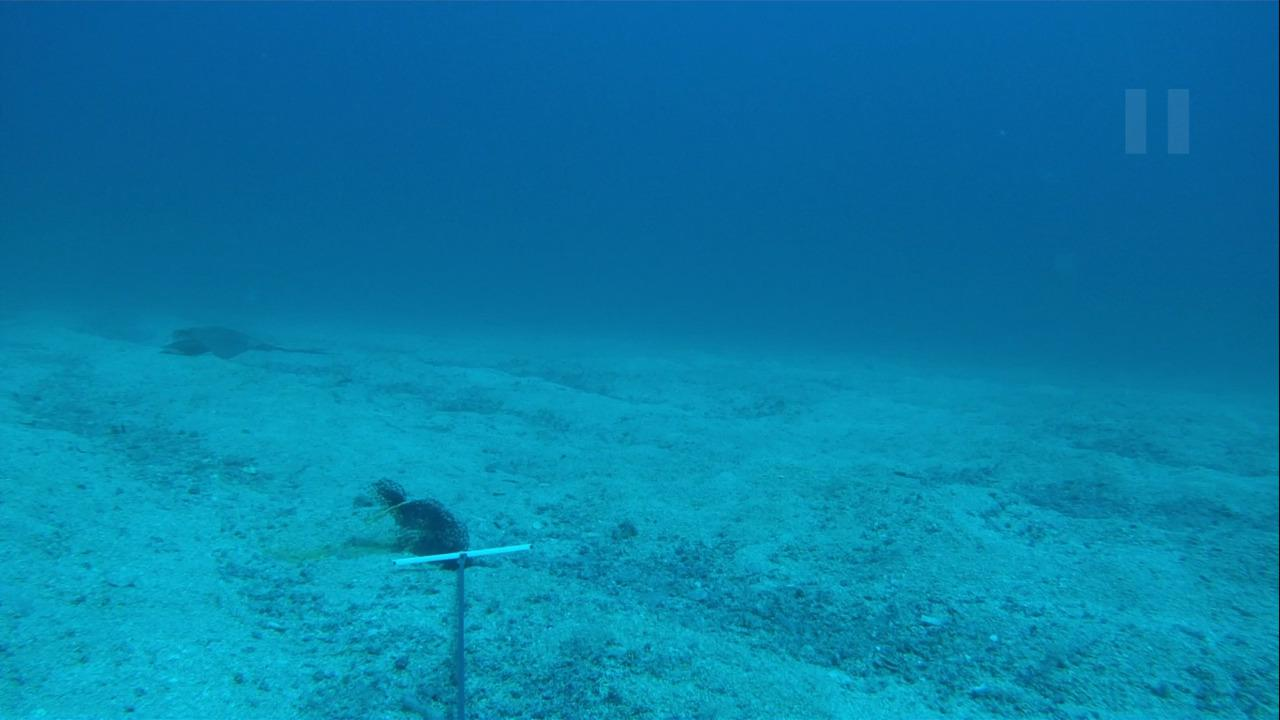myliobatis: (150, 317, 340, 361)
